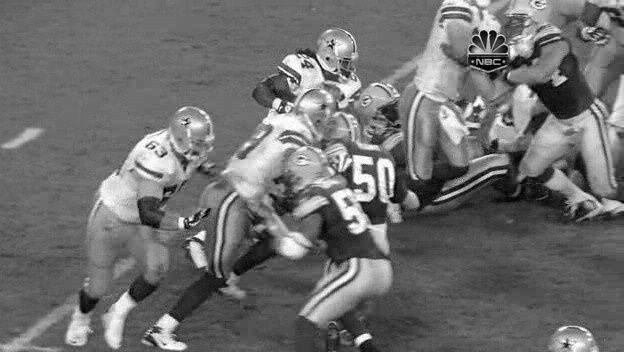person: (323, 28, 359, 74), (322, 28, 358, 74), (324, 28, 360, 74), (323, 27, 359, 73), (323, 29, 359, 75)
target_negative: (124, 9, 314, 333), (143, 190, 568, 290), (149, 271, 191, 350), (199, 335, 363, 348), (229, 121, 249, 222), (389, 278, 490, 288)
